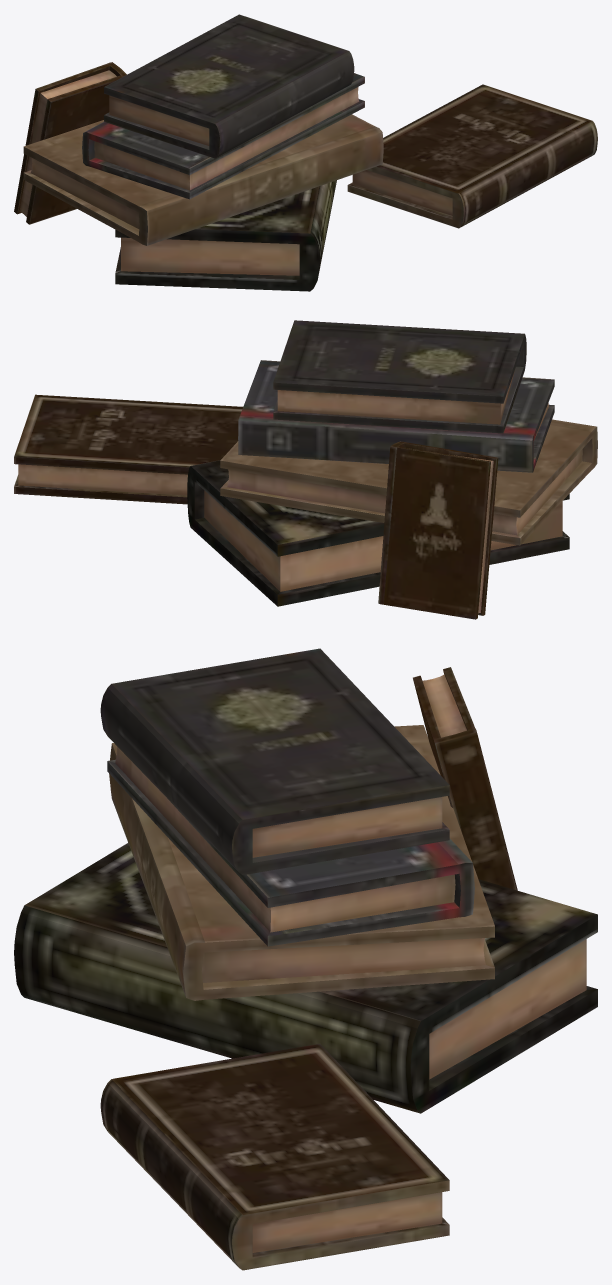
The model's file is obj_stack_of_old_books.glb.
The picture shows the model from 3 angles, top to bottom: view 1: azimuth 30°, elevation 25°; view 2: azimuth 150°, elevation 25°; view 3: azimuth 270°, elevation 25°; orthographic projection. The views are drawn at different scales.
Parts seen in each view (by area): view 1: defaultMaterial; view 2: defaultMaterial; view 3: defaultMaterial.
Boxes of the visible parts, x1,y1,x2,y2 form: defaultMaterial: [14, 14, 597, 291]; defaultMaterial: [14, 320, 597, 619]; defaultMaterial: [14, 648, 597, 1270].
Size of the model in its own units: 0.35 by 0.1071 by 0.2162.
1 material, 1 textured.
